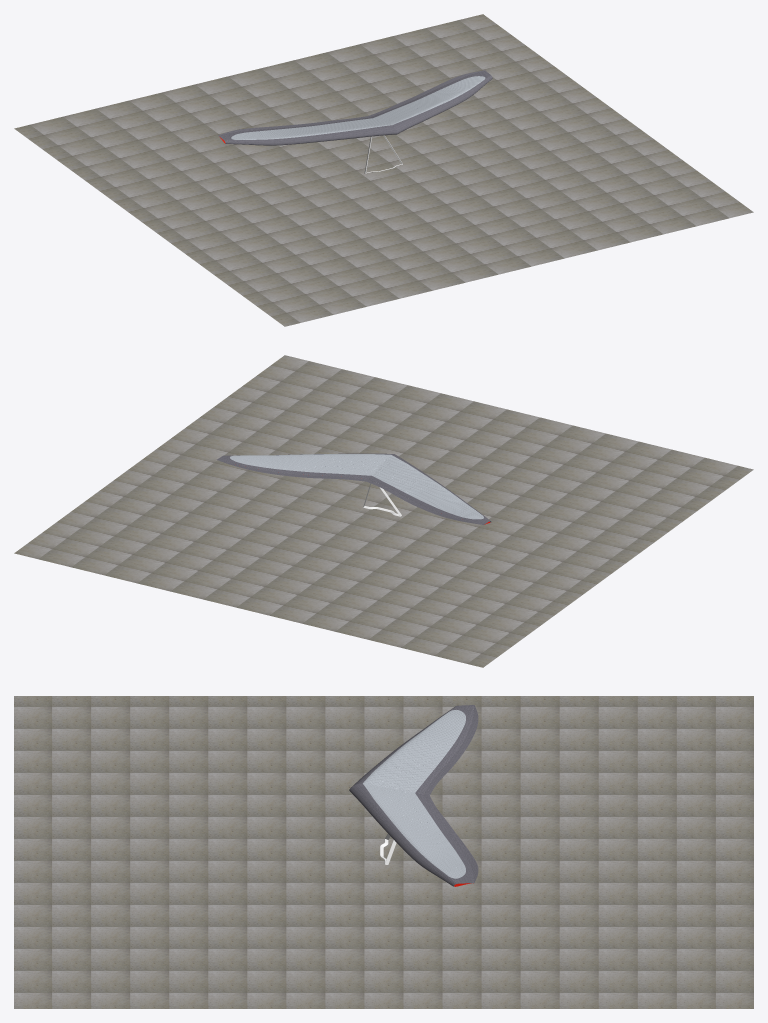
File: HG_graphic_model.glb
3 renders of one model, top to bottom at view 1: azimuth 30°, elevation 25°; view 2: azimuth 150°, elevation 25°; view 3: azimuth 270°, elevation 25°, orthographic. The views are drawn at different scales.
Visible parts, largest first — view 1: Plane, mesh28_meshnode_28, mesh33_meshnode_33, mesh25_meshnode_25, mesh30_meshnode_30; view 2: Plane, mesh28_meshnode_28, mesh33_meshnode_33, mesh27_meshnode_27, mesh32_meshnode_32; view 3: Plane, mesh33_meshnode_33, mesh28_meshnode_28, mesh30_meshnode_30, mesh32_meshnode_32, mesh31_meshnode_31, mesh27_meshnode_27, mesh26_meshnode_26.
Boxes of the visible parts, x1,y1,x2,y2 form: Plane: [14, 14, 753, 326]; mesh28_meshnode_28: [373, 76, 485, 124]; mesh33_meshnode_33: [231, 118, 391, 139]; mesh25_meshnode_25: [224, 125, 397, 145]; mesh30_meshnode_30: [392, 75, 492, 133]; Plane: [14, 355, 753, 667]; mesh28_meshnode_28: [230, 454, 390, 475]; mesh33_meshnode_33: [372, 455, 483, 519]; mesh27_meshnode_27: [217, 455, 371, 479]; mesh32_meshnode_32: [369, 476, 489, 524]; Plane: [14, 696, 753, 1008]; mesh33_meshnode_33: [363, 710, 465, 792]; mesh28_meshnode_28: [363, 783, 465, 878]; mesh30_meshnode_30: [349, 783, 457, 886]; mesh32_meshnode_32: [415, 705, 473, 794]; mesh31_meshnode_31: [424, 705, 478, 795]; mesh27_meshnode_27: [415, 793, 473, 883]; mesh26_meshnode_26: [424, 795, 478, 882].
Size of the model in its own units: 16.96 by 1.76 by 16.96.
5 materials, 3 textured.
